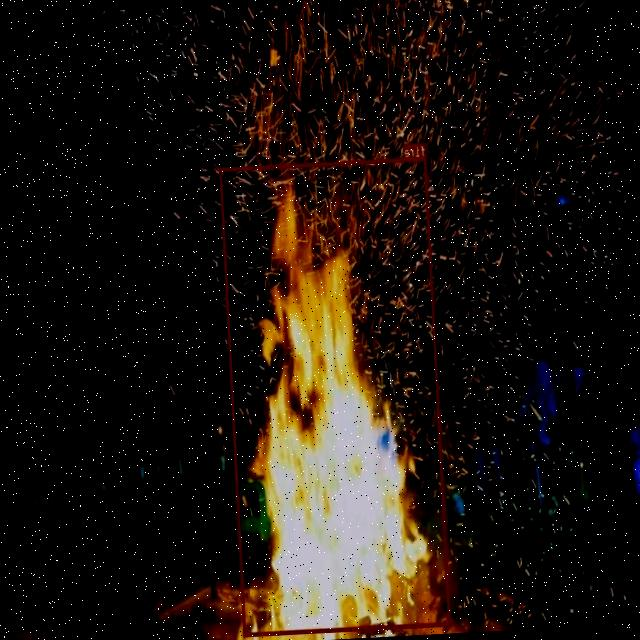fire: (219, 156, 452, 636)
